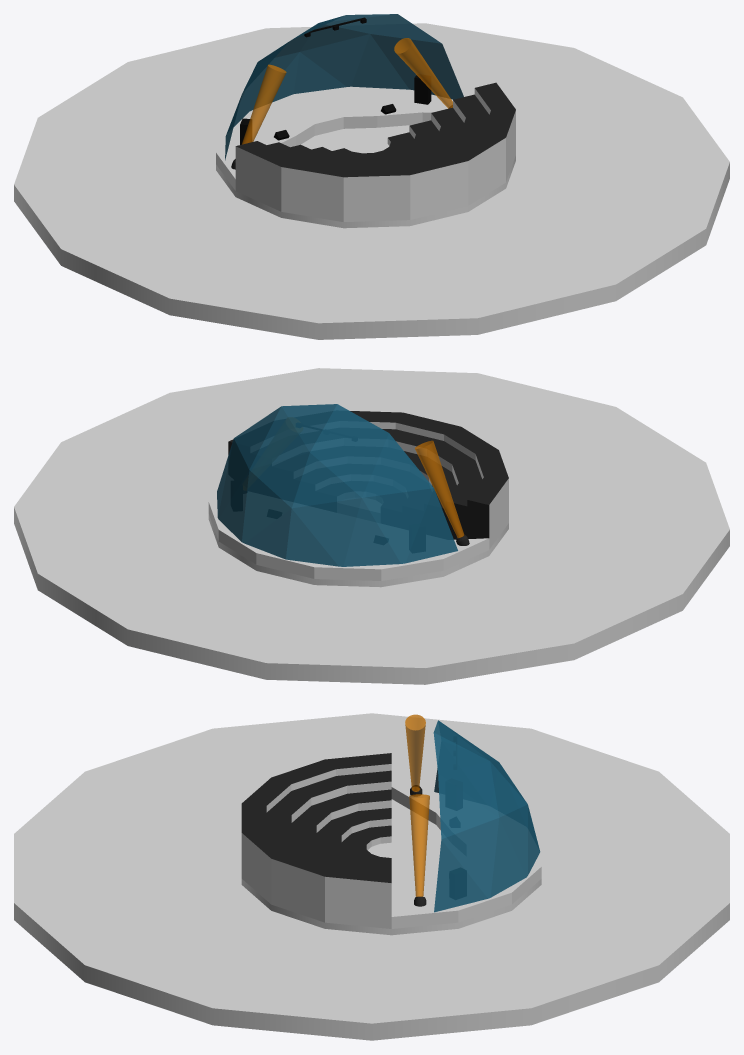
The model's file is Concert_1262.obj.
The picture shows the model from 3 angles, top to bottom: view 1: azimuth 30°, elevation 25°; view 2: azimuth 150°, elevation 25°; view 3: azimuth 270°, elevation 25°; orthographic projection. The views are drawn at different scales.
Visible parts, largest first — view 1: Cylinder004; view 2: Cylinder004; view 3: Cylinder004.
Boxes of the visible parts, box(x1,y1,x2,y2) form: Cylinder004: box(14, 14, 729, 339); Cylinder004: box(14, 368, 729, 684); Cylinder004: box(14, 713, 729, 1040).
Bounding box in the file's own units: 326 × 76.14 × 318.
